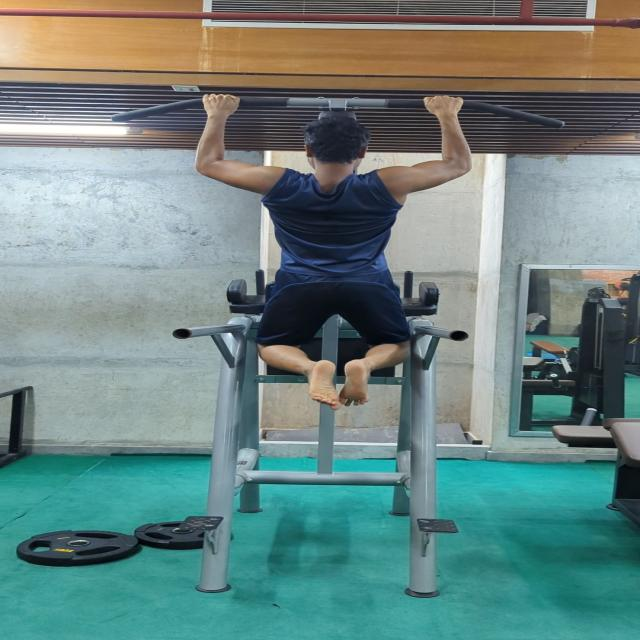Normal_PullUps: (183, 81, 475, 418)
